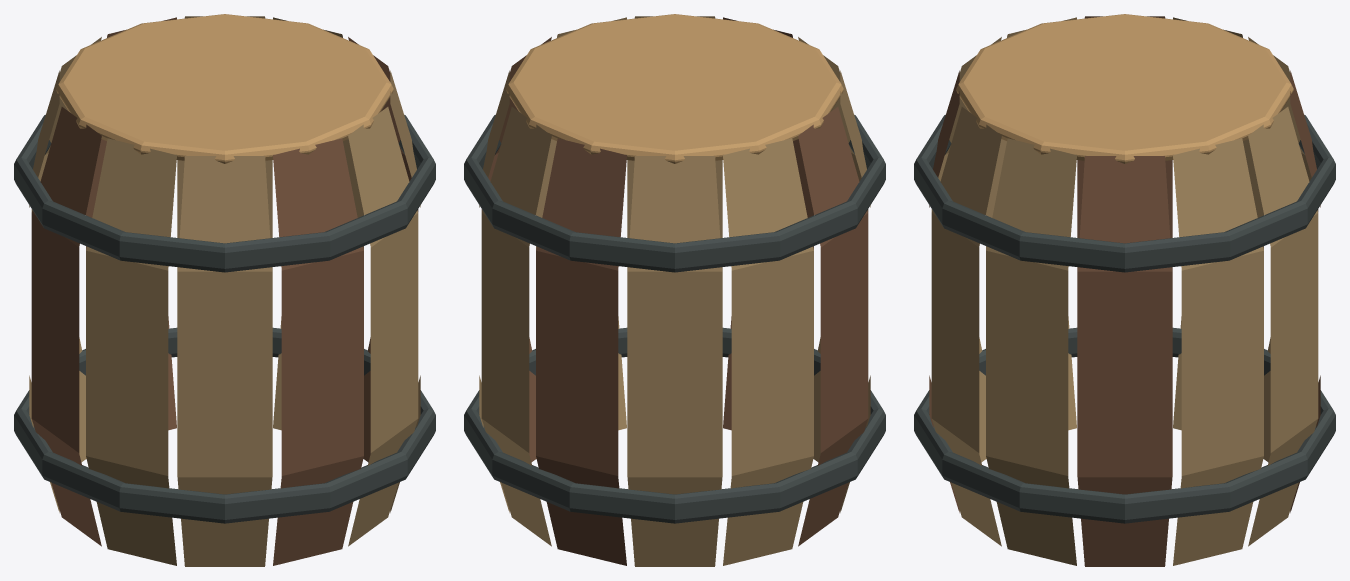
Rendered from prop_barrel__attachments.glb.
3 views of the same model, side by side, from view 1: azimuth 30°, elevation 25°; view 2: azimuth 150°, elevation 25°; view 3: azimuth 270°, elevation 25° (orthographic).
Parts seen in each view (by area): view 1: prop_barrel__attachments__mesh_00; view 2: prop_barrel__attachments__mesh_00; view 3: prop_barrel__attachments__mesh_00.
Boxes of the visible parts, left/top/right/bottom form: prop_barrel__attachments__mesh_00: left=14, top=14, right=435, bottom=566; prop_barrel__attachments__mesh_00: left=464, top=14, right=885, bottom=566; prop_barrel__attachments__mesh_00: left=914, top=14, right=1335, bottom=566.
Size of the model in its own units: 0.67 by 0.7265 by 0.67.
